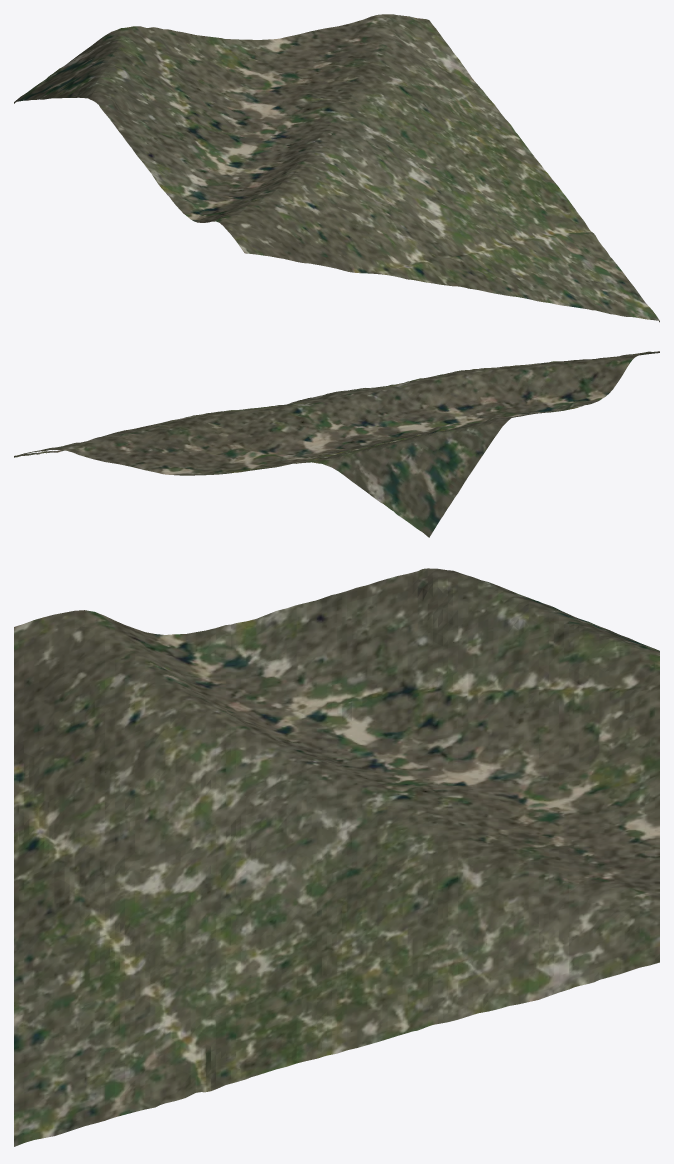
3 views of the same model, one above another, from view 1: azimuth 30°, elevation 25°; view 2: azimuth 150°, elevation 25°; view 3: azimuth 270°, elevation 25° (orthographic). The views are drawn at different scales.
Size of the model in its own units: 250 by 123 by 241.
1 material, 1 textured.
